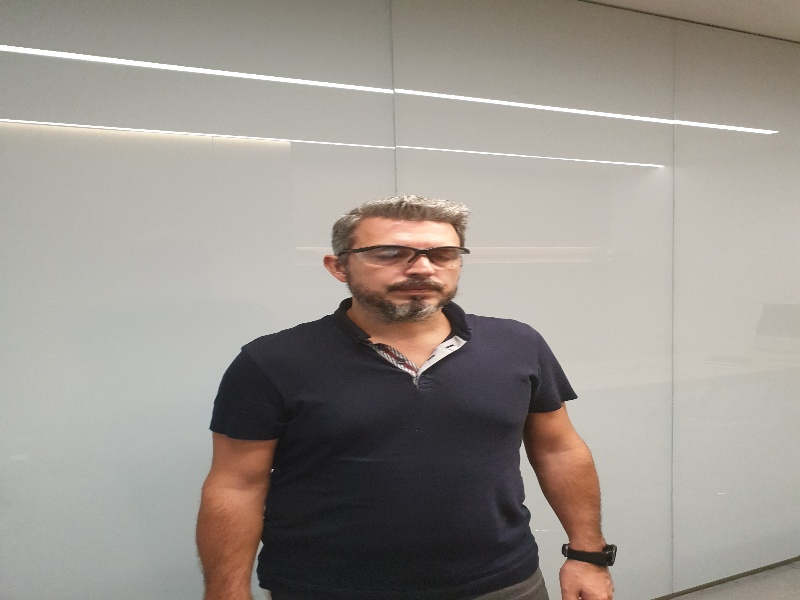Gozluk: (333, 245, 469, 265)
